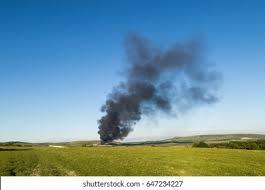smoke: (107, 35, 227, 101), (97, 100, 135, 143)
